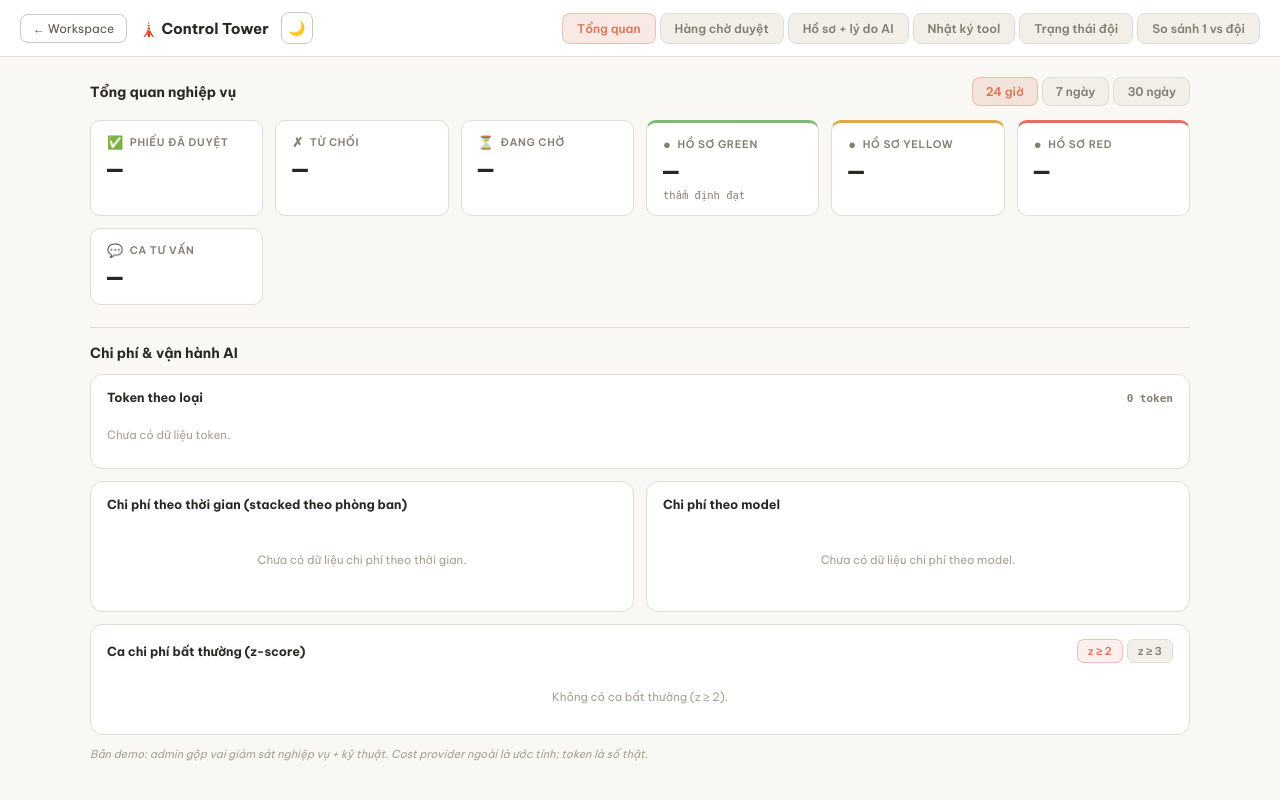
Test: ControlTower › compare partial (multi null) → cột single + note partial
Click the button "So sánh 1 vs đội". click: (1199, 28)
box: left=1137, top=12, right=1260, bottom=44
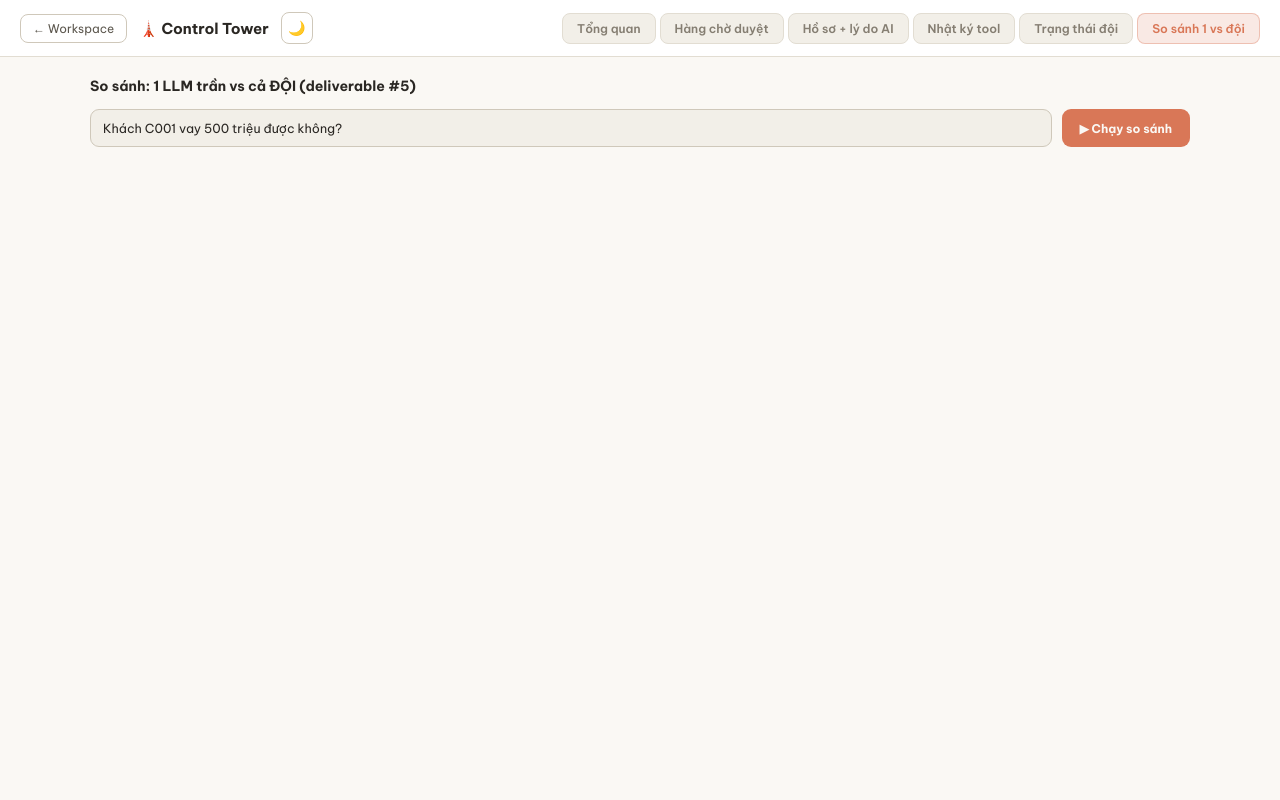
Click the button with test id "compare-run". click: (1126, 128)
box: left=1062, top=109, right=1190, bottom=147
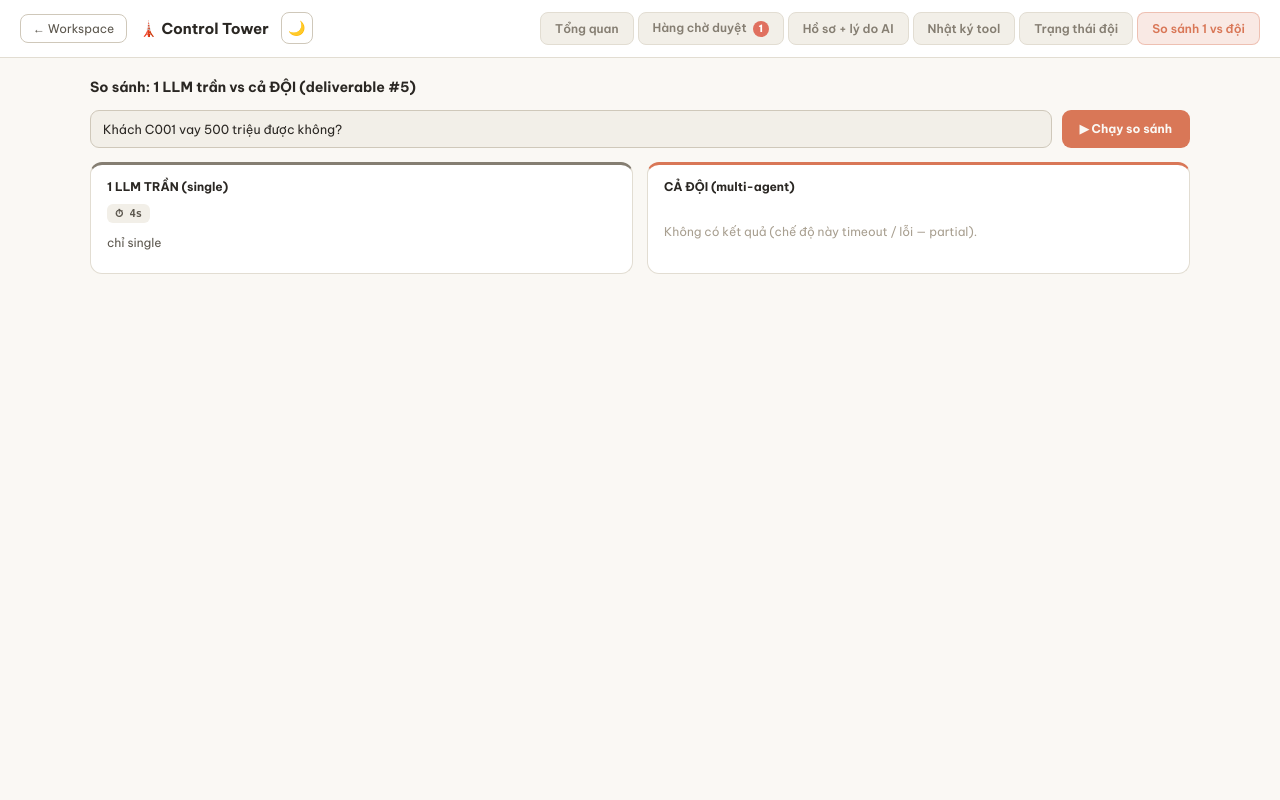
Expected: the text "chỉ single" is shown, left=107, top=235, right=162, bottom=250
Expected: the text "Không có kết quả (chế độ này timeout / lỗi — partial)." is shown, left=664, top=224, right=977, bottom=239
